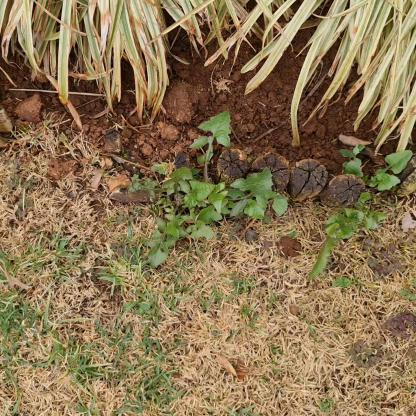Weeds: (127, 109, 288, 272), (309, 143, 415, 285)
